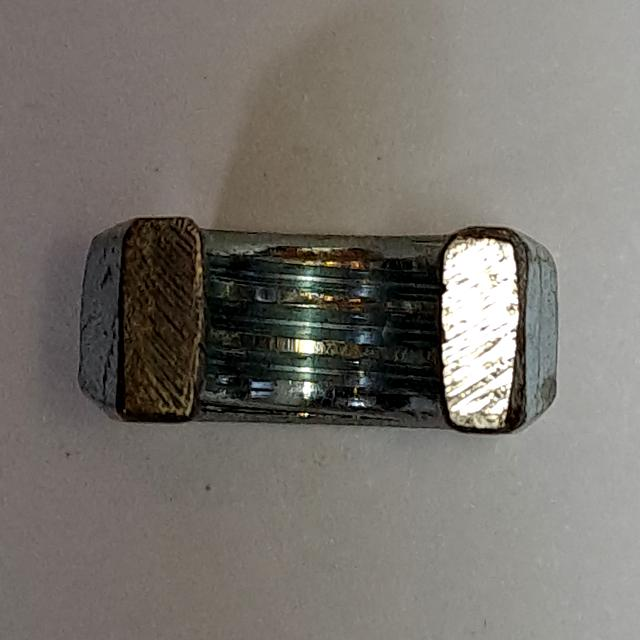Side-Fracture: (66, 197, 575, 482)
